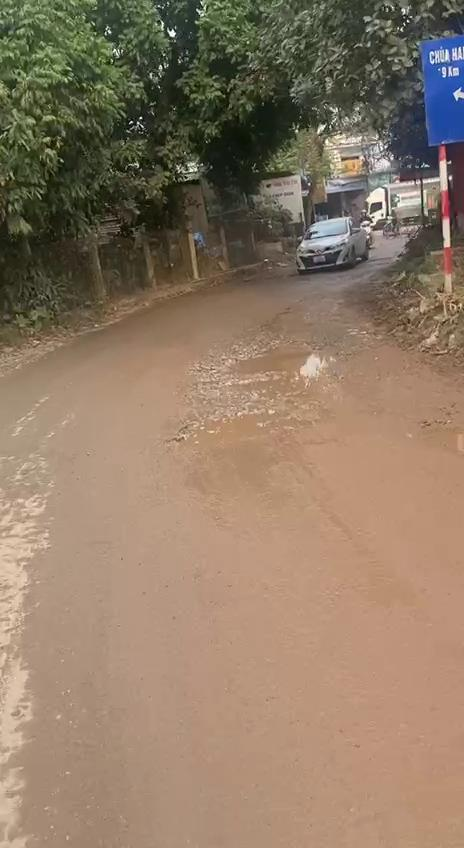pothole: (165, 408, 308, 455), (207, 340, 328, 395)
